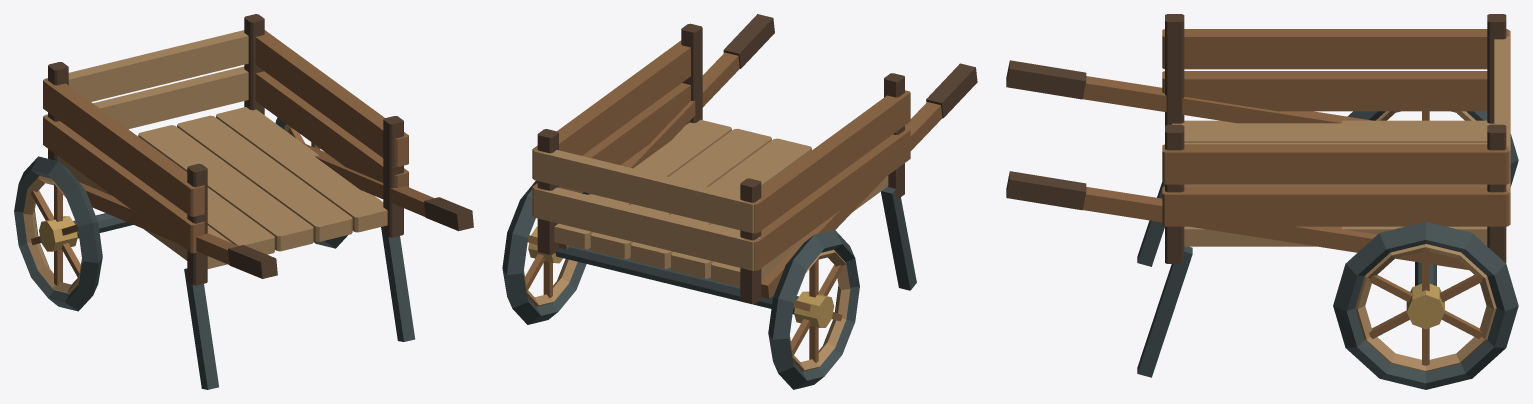
Rendered from harvest_cart.glb.
The picture shows the model from 3 angles, left to right: view 1: azimuth 30°, elevation 25°; view 2: azimuth 150°, elevation 25°; view 3: azimuth 270°, elevation 25°; orthographic projection. The views are drawn at different scales.
Parts seen in each view (by area): view 1: geometry; view 2: geometry; view 3: geometry.
Boxes of the visible parts, left/top/right/bottom form: geometry: left=14, top=14, right=473, bottom=389; geometry: left=502, top=14, right=977, bottom=389; geometry: left=1006, top=14, right=1518, bottom=389.
Size of the model in its own units: 1.37 by 0.9929 by 1.88.
